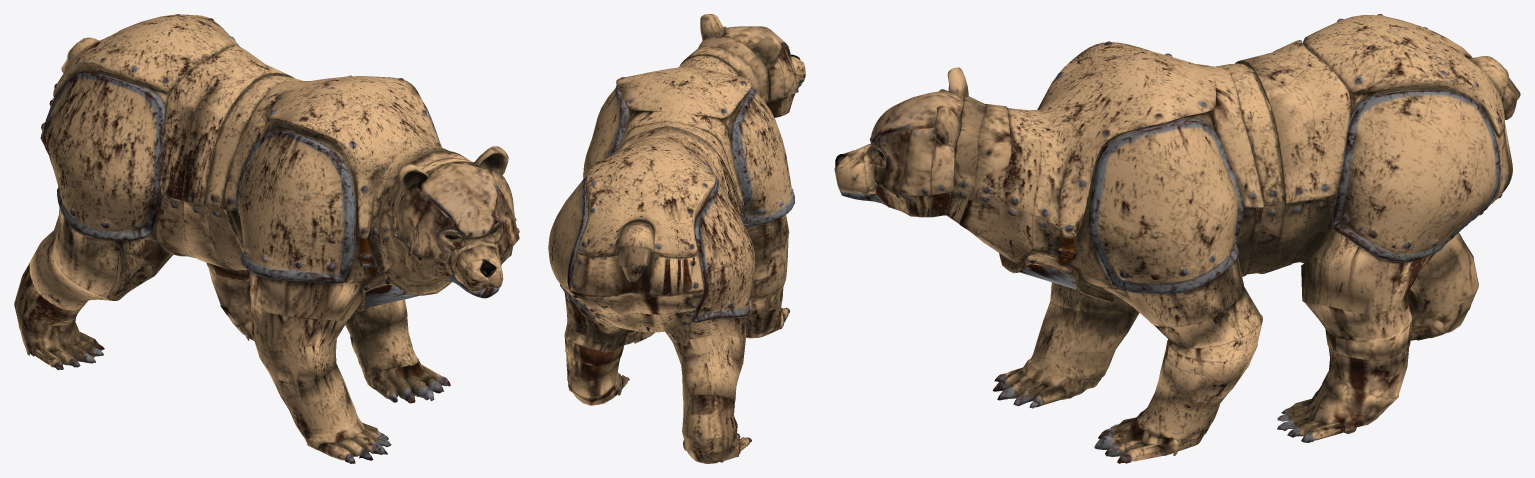
The model's file is MZ4250 - Clockwork Bear - Bronze Rusty.glb.
3 renders of one model, left to right at view 1: azimuth 30°, elevation 25°; view 2: azimuth 150°, elevation 25°; view 3: azimuth 270°, elevation 25°, orthographic. The views are drawn at different scales.
Visible parts, largest first — view 1: Clockwork Bear_low.003; view 2: Clockwork Bear_low.003; view 3: Clockwork Bear_low.003.
Boxes of the visible parts, x1=… form: Clockwork Bear_low.003: x1=14, y1=14, x2=519, y2=463; Clockwork Bear_low.003: x1=548, y1=14, x2=805, y2=463; Clockwork Bear_low.003: x1=834, y1=14, x2=1520, y2=463.
Size of the model in its own units: 1.08 by 1.13 by 2.
Materials: 1 (1 with a texture image).
